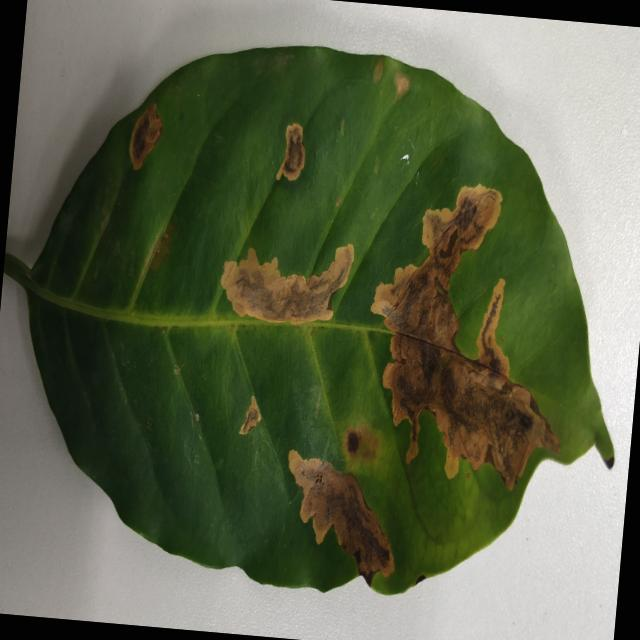KaratDaunKopi: (371, 185, 559, 490), (288, 450, 394, 582), (220, 244, 353, 324), (129, 104, 161, 170), (276, 123, 305, 181), (343, 425, 377, 464), (238, 395, 260, 434), (393, 71, 410, 102), (372, 57, 383, 84)
